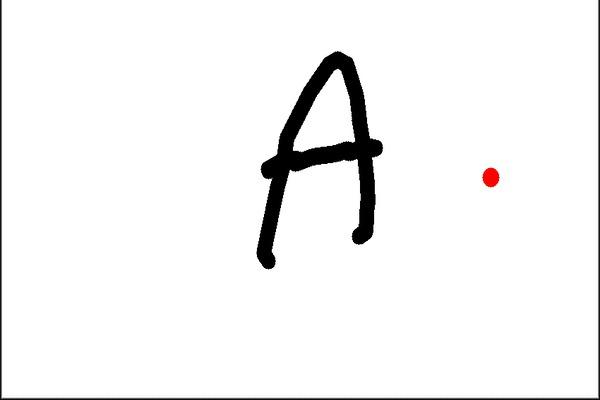A: (241, 43, 387, 274)
